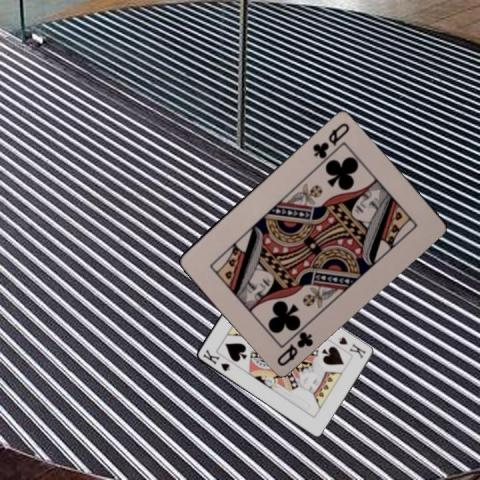Ks: (200, 346, 232, 372), (334, 334, 366, 360)
Qc: (310, 119, 352, 160), (274, 328, 315, 367)
